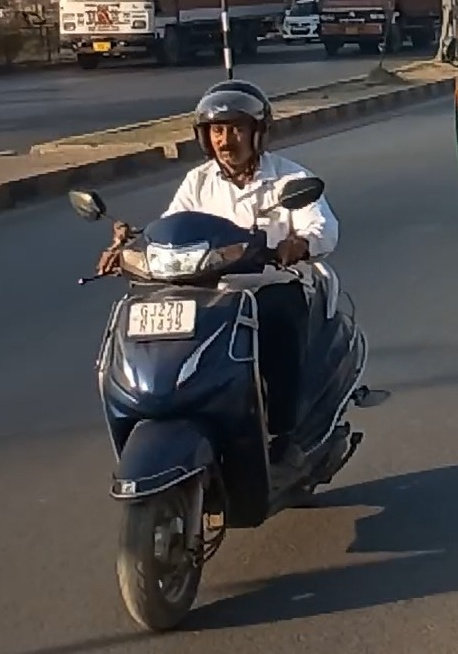BikeWithRider: (56, 72, 399, 638)
Helmet: (183, 74, 283, 177)
